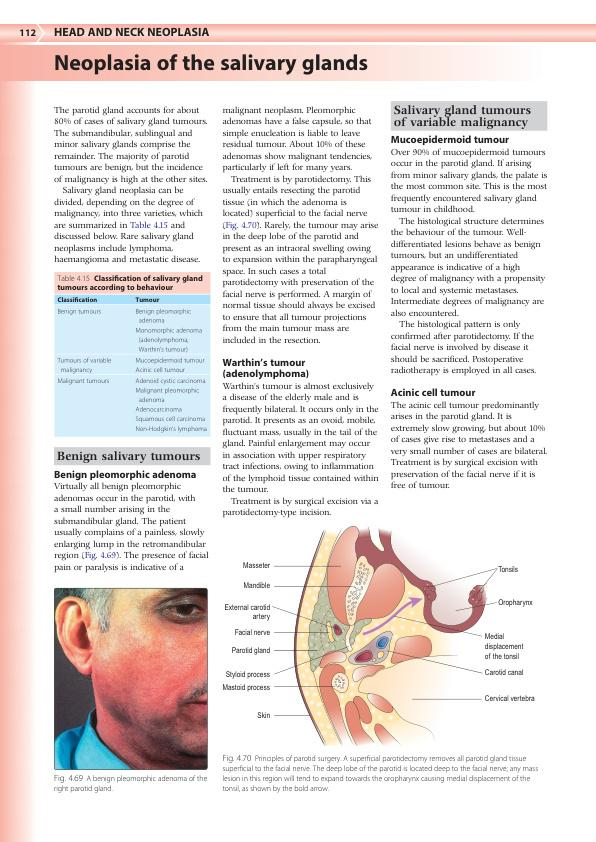caption: (221, 753, 540, 794), (53, 774, 208, 793), (56, 274, 204, 293)
chapter-heading: (53, 52, 369, 76)
header: (53, 27, 210, 37)
image: (218, 522, 540, 750), (54, 588, 208, 770)
section-heading: (393, 104, 532, 130), (56, 450, 201, 464)
sub-section-heading: (221, 357, 310, 380), (53, 469, 197, 481), (390, 134, 510, 146), (390, 387, 477, 397)
table: (54, 294, 210, 436)
text: (221, 105, 378, 345), (390, 147, 548, 376), (53, 105, 208, 265), (221, 381, 379, 519), (390, 400, 548, 490), (53, 482, 209, 573)
